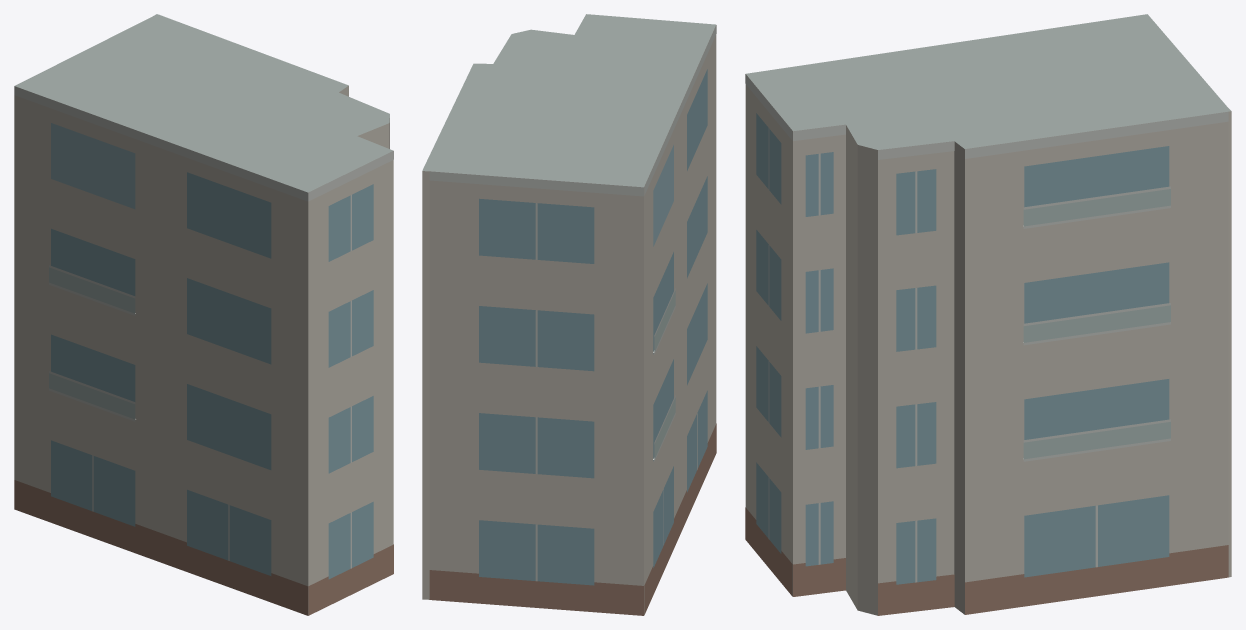
The model's file is survey-upis-32509254.glb.
The picture shows the model from 3 angles, left to right: view 1: azimuth 30°, elevation 25°; view 2: azimuth 150°, elevation 25°; view 3: azimuth 270°, elevation 25°; orthographic projection. The views are drawn at different scales.
Parts seen in each view (by area): view 1: survey-upis-32509254.tmp; view 2: survey-upis-32509254.tmp; view 3: survey-upis-32509254.tmp.
Part boxes in pixels (x1,y1,x2,y2): survey-upis-32509254.tmp: [14, 14, 393, 615]; survey-upis-32509254.tmp: [422, 14, 716, 615]; survey-upis-32509254.tmp: [745, 14, 1231, 615].
Size of the model in its own units: 7.15 by 11.4 by 10.79.
